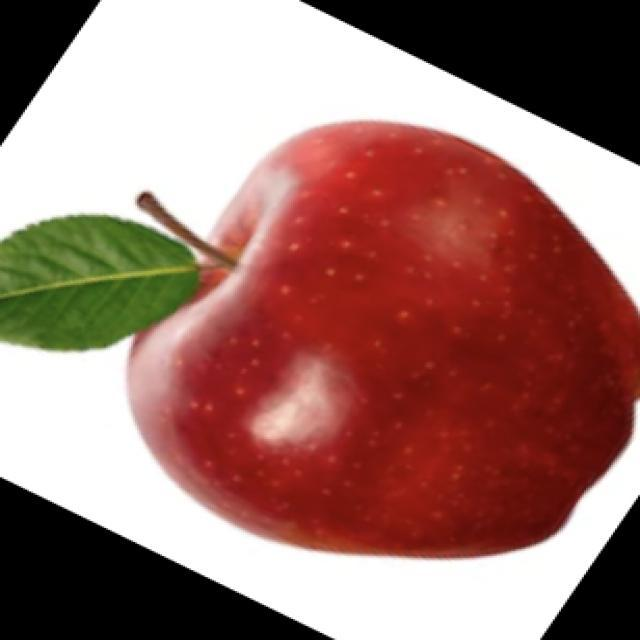Fresh Apple: (133, 121, 640, 523)
